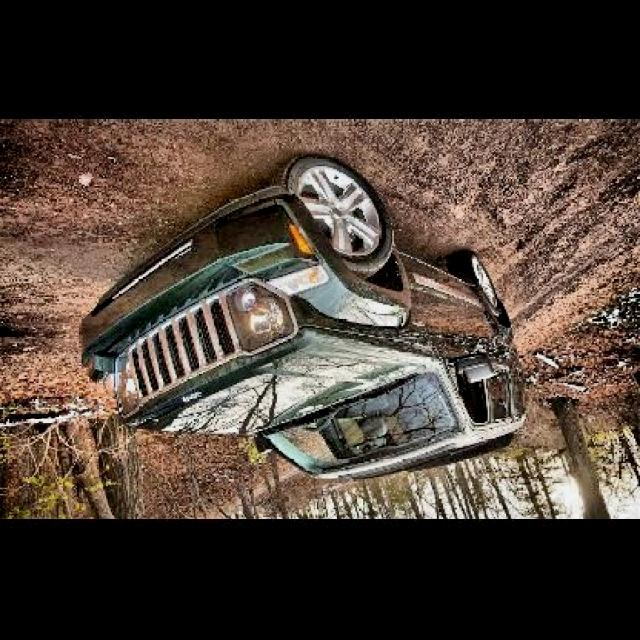green: (82, 154, 522, 480)
